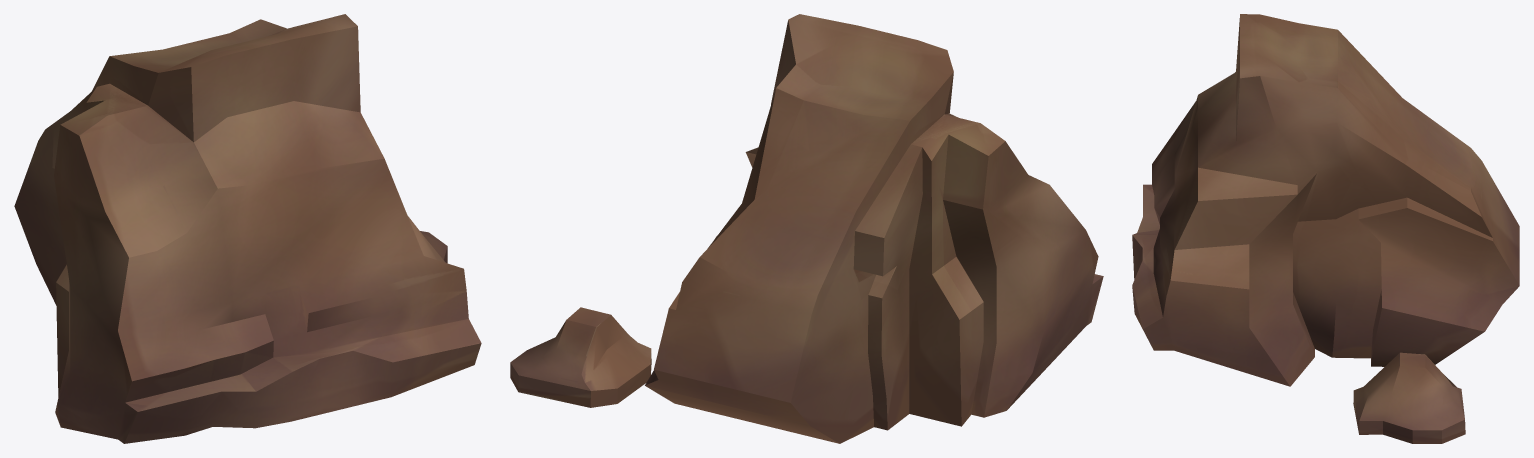
Rendered from batu5.fbx.
The picture shows the model from 3 angles, left to right: view 1: azimuth 30°, elevation 25°; view 2: azimuth 150°, elevation 25°; view 3: azimuth 270°, elevation 25°; orthographic projection. The views are drawn at different scales.
Visible parts, largest first — view 1: batu5; view 2: batu5; view 3: batu5.
Part boxes in pixels (x1,y1,x2,y2): batu5: [14, 14, 481, 443]; batu5: [510, 14, 1103, 443]; batu5: [1132, 14, 1519, 443].
Bounding box in the file's own units: 334 × 245 × 296.
